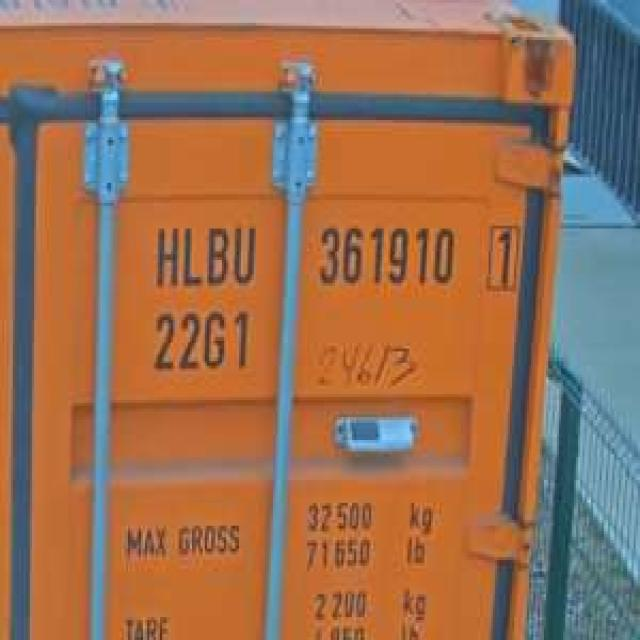dv: (481, 217, 525, 295)
owner: (144, 218, 261, 290)
serial: (314, 218, 459, 290)
size: (146, 304, 254, 380)
